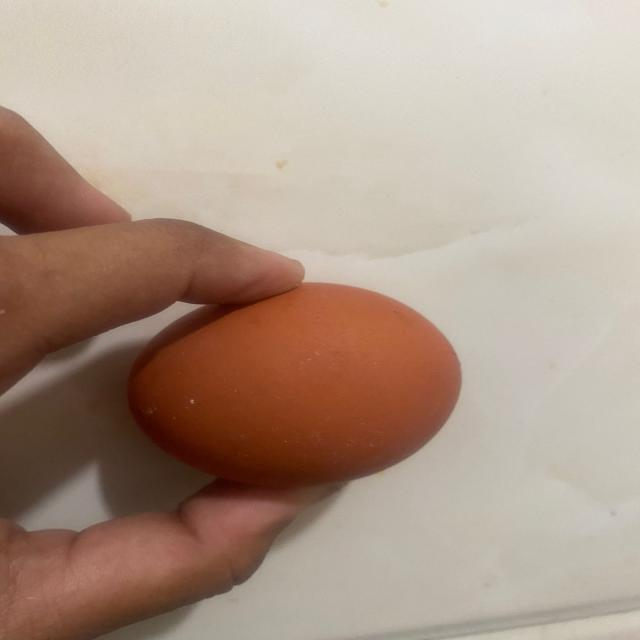egg: (128, 278, 472, 483)
